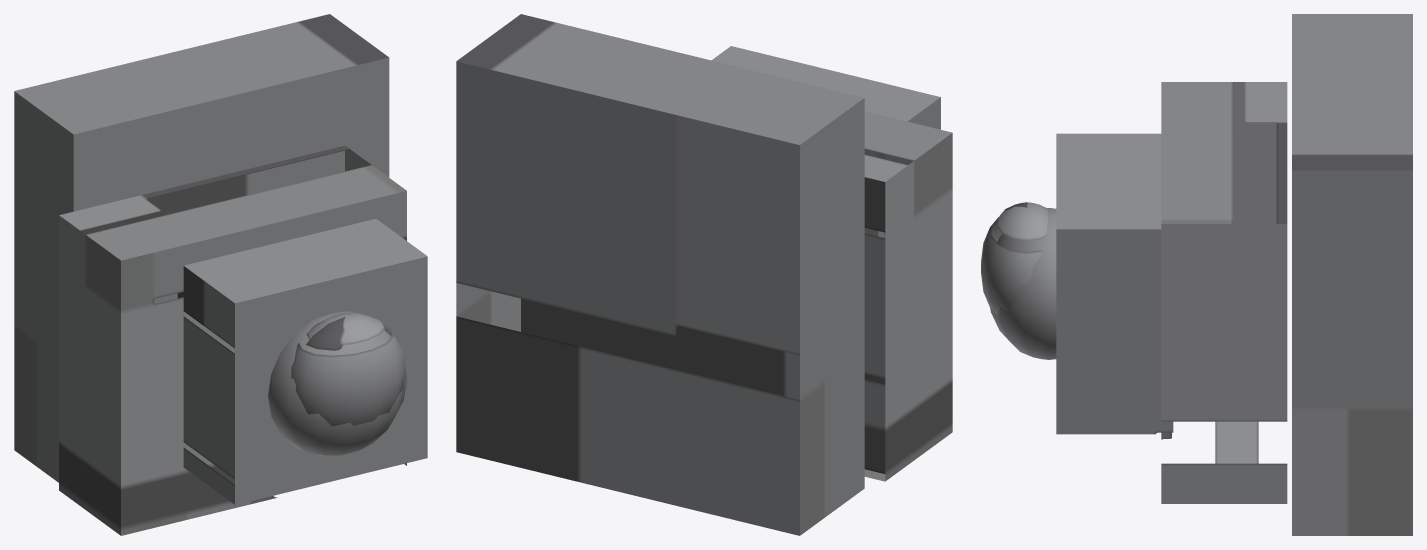
3 views of the same model, side by side, from view 1: azimuth 30°, elevation 25°; view 2: azimuth 150°, elevation 25°; view 3: azimuth 270°, elevation 25° (orthographic). The views are drawn at different scales.
Size of the model in its own units: 0.6311 by 0.6514 by 0.6978.
